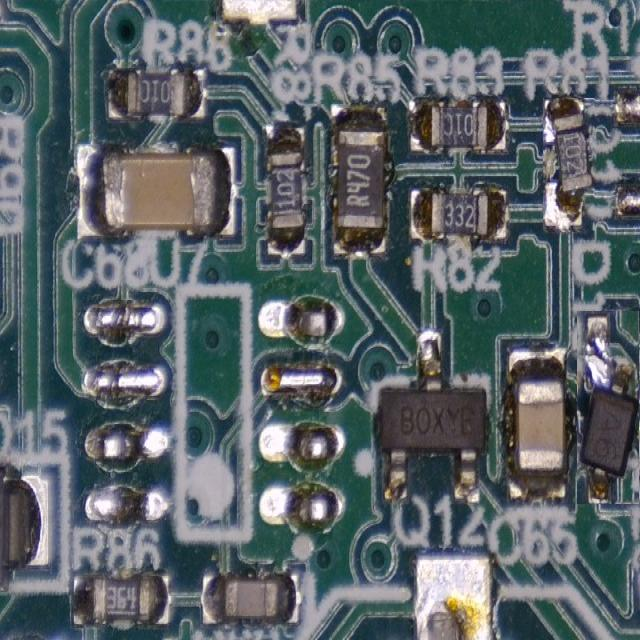Incorrect_installation: (576, 310, 639, 504), (544, 99, 594, 230)
